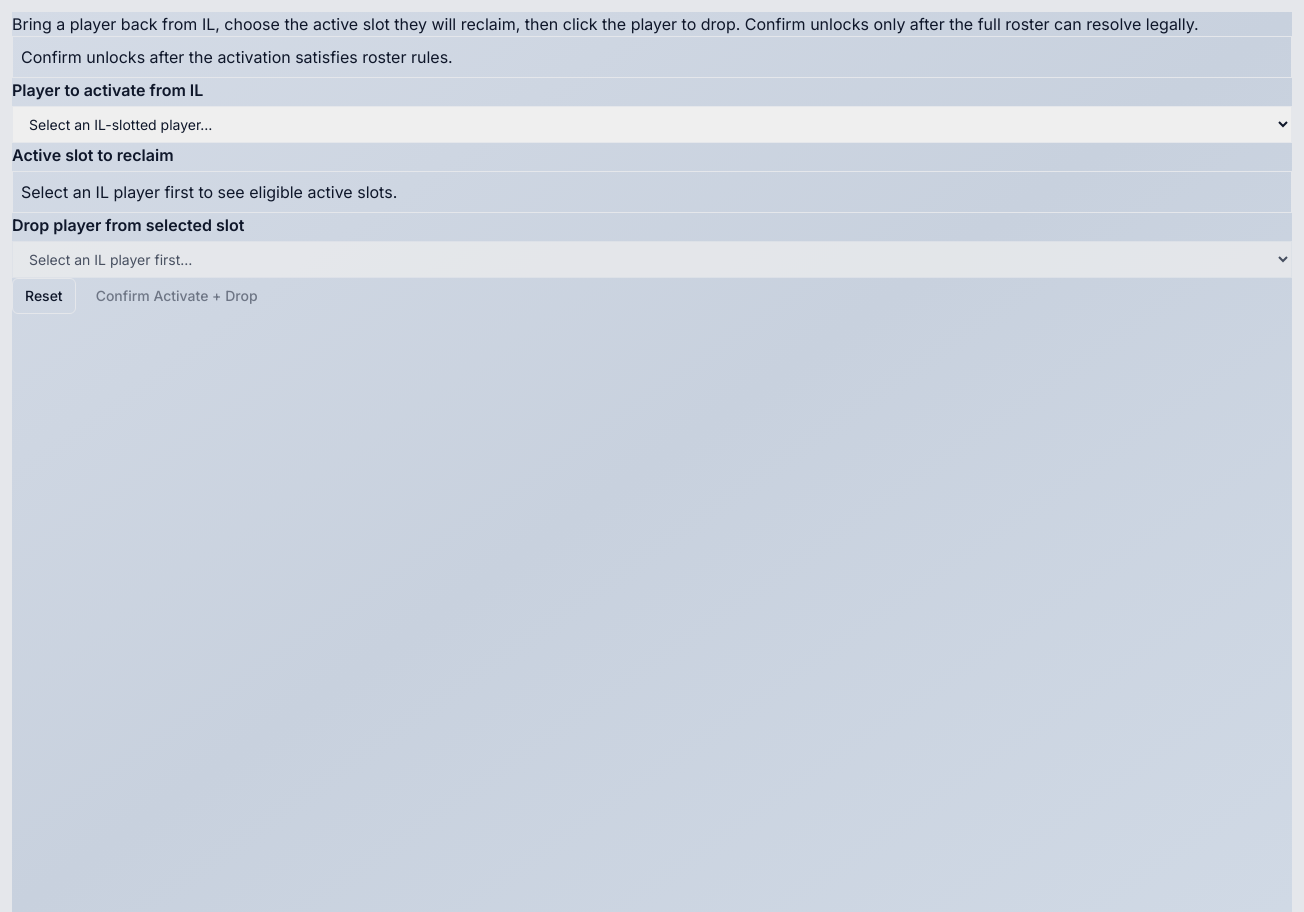
Scenario: ActivateFromIlPanel roster-rule confirmation gate › allows confirm when the server matcher accepts a non-pairwise activation
The image size is (1304, 912).
Select "Byron Buxton — OF" in the dropdown below "Player to activate from IL": point(652, 124) [12,106,1292,143]
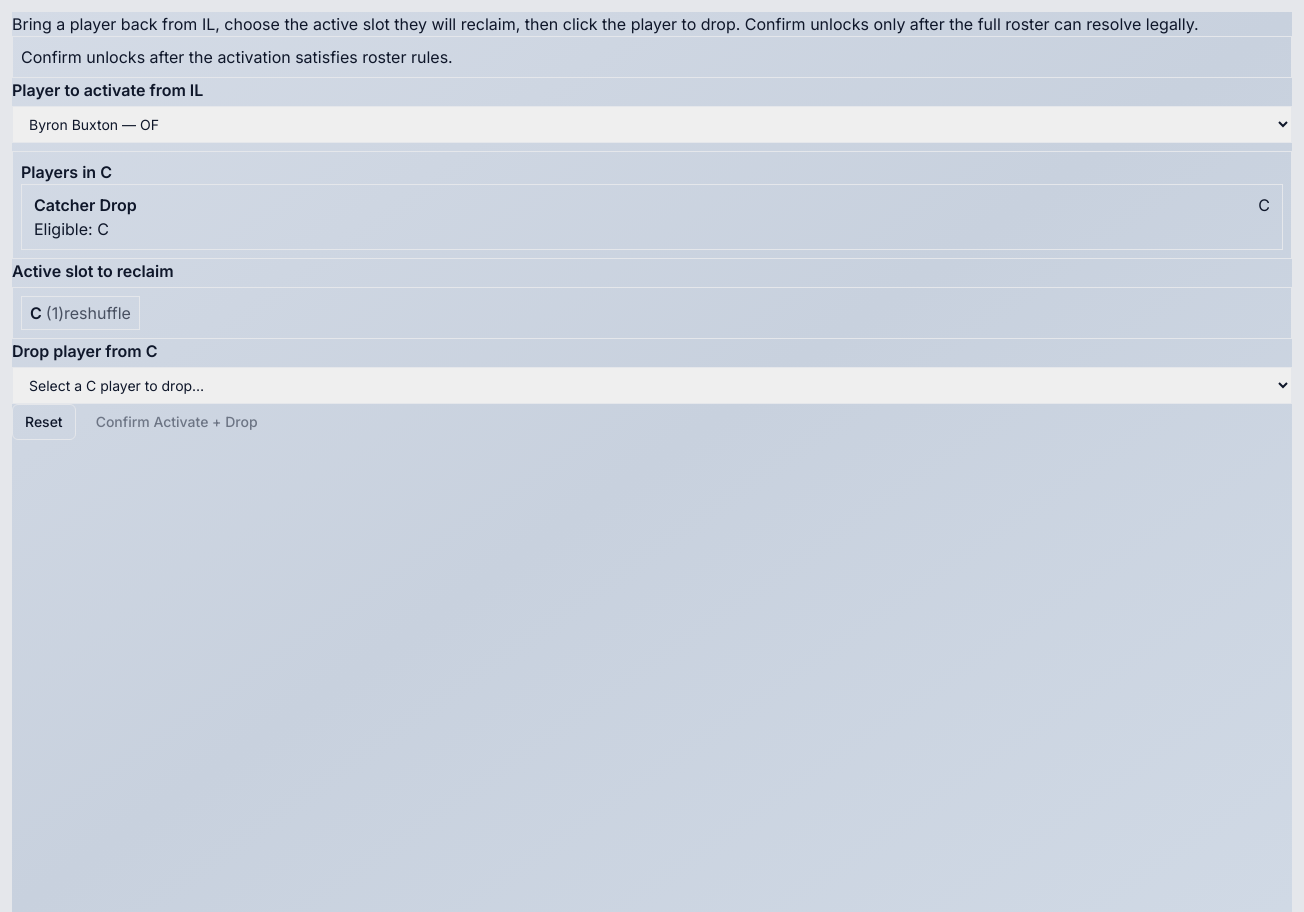
Select "Catcher Drop — C (ineligible)" in the dropdown below "Drop player from": point(652, 386) [12,367,1292,404]
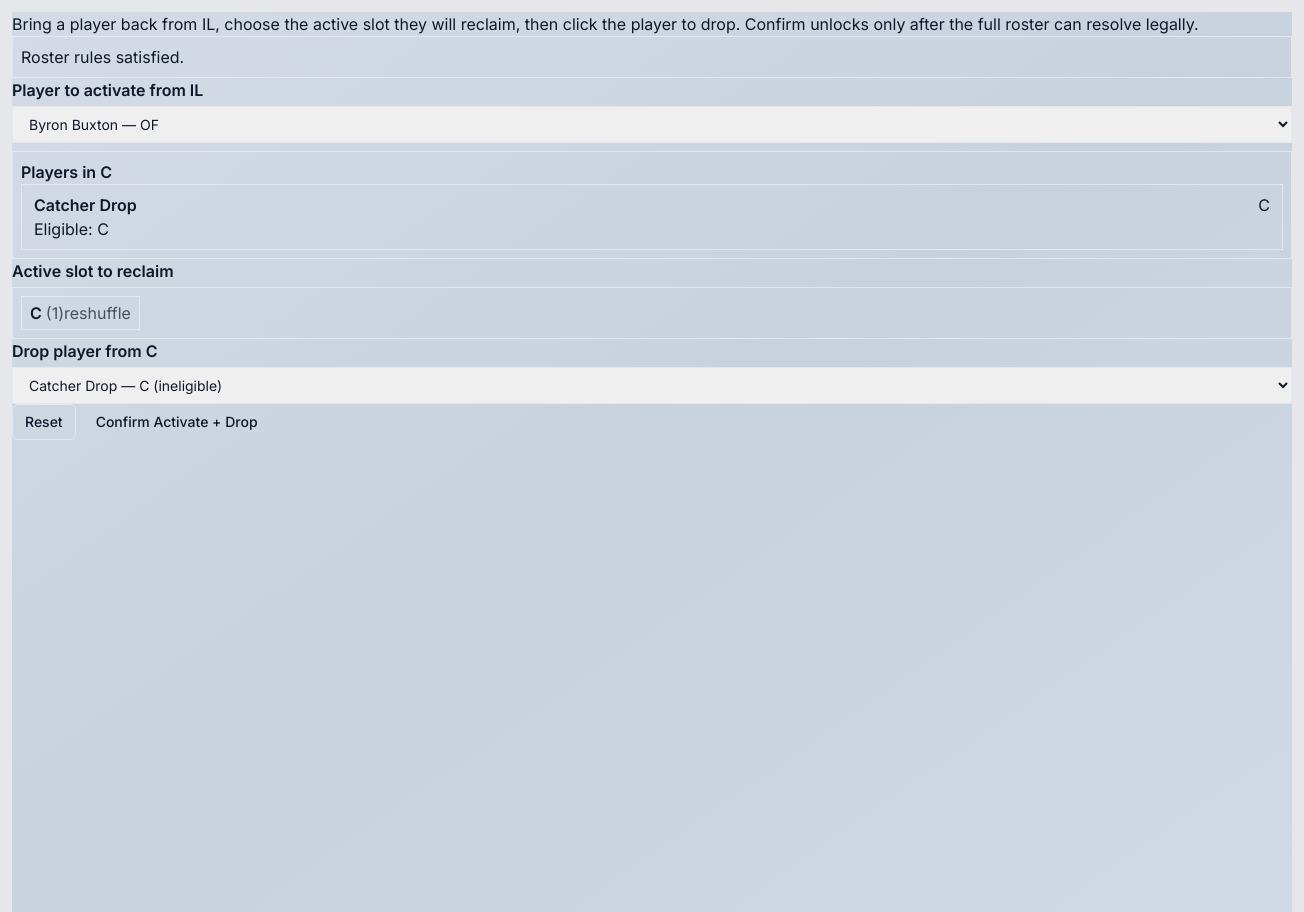
Expected: the button "Confirm Activate + Drop" is enabled, [84,404,270,440]
Expected: the text "Roster rules satisfied." is shown, [12,36,1292,78]
